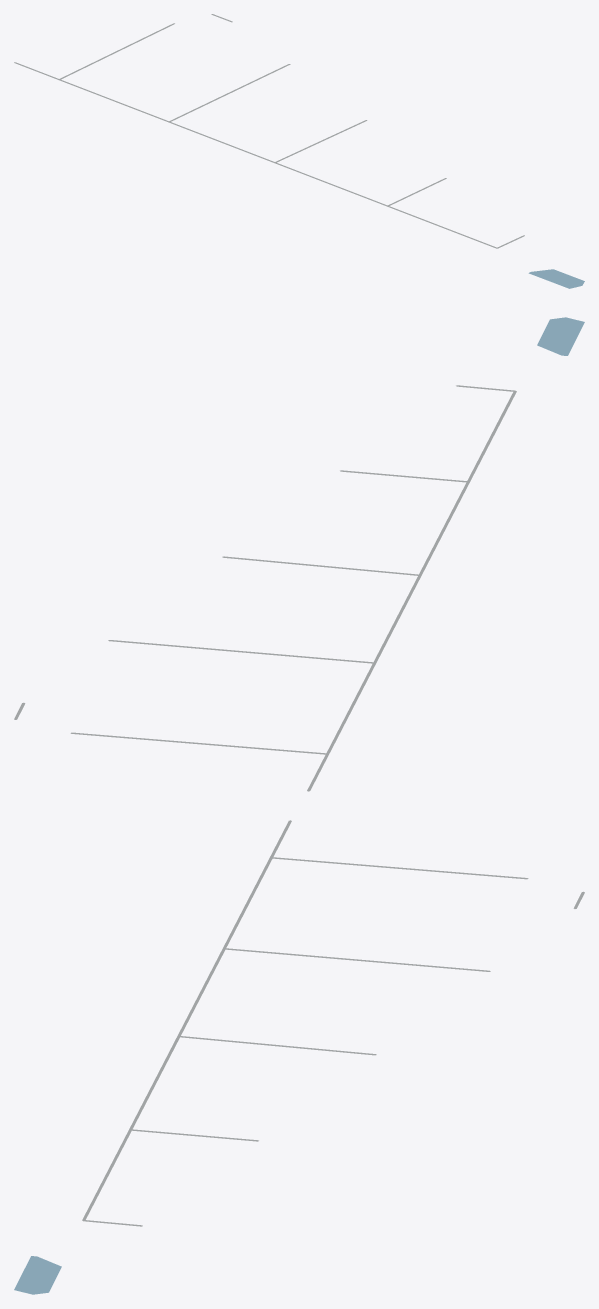
The model's file is -17_-6-known-fine.glb.
3 renders of one model, top to bottom at view 1: azimuth 30°, elevation 25°; view 2: azimuth 150°, elevation 25°; view 3: azimuth 330°, elevation 25°, orthographic. The views are drawn at different scales.
Size of the model in its own units: 320 by 0.1 by 996.
